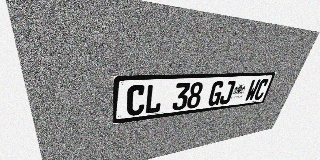3: (172, 82, 191, 111)
8: (186, 82, 205, 109)
C: (126, 85, 146, 117), (253, 79, 270, 100)
G: (207, 81, 225, 106)
J: (218, 80, 236, 105)
L: (144, 84, 164, 114)
W: (244, 79, 261, 102)
